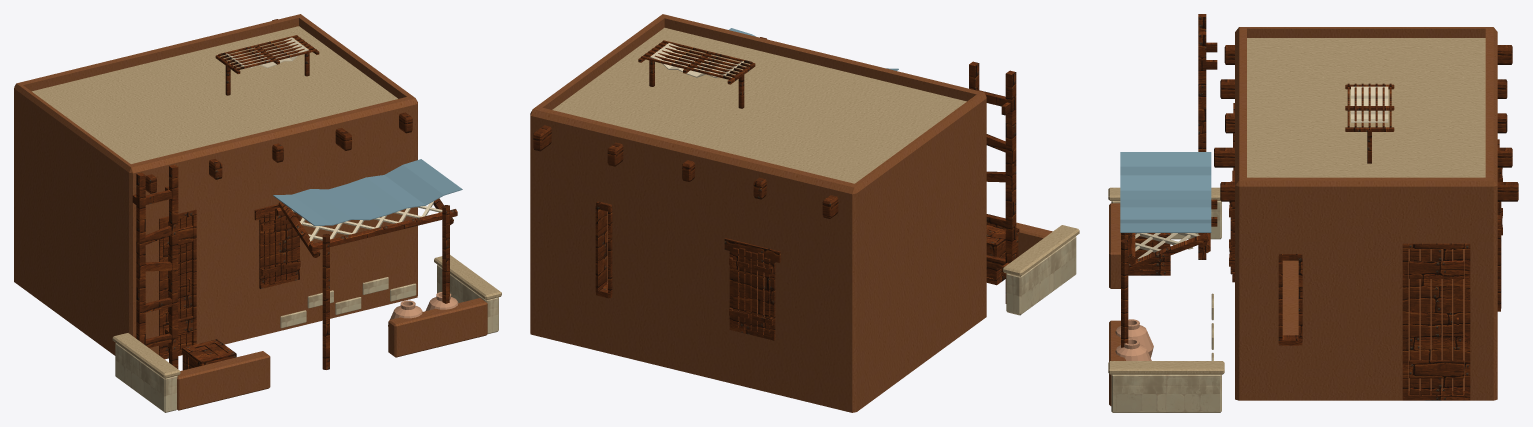
The model's file is house-mudbrick.glb.
3 renders of one model, left to right at view 1: azimuth 30°, elevation 25°; view 2: azimuth 150°, elevation 25°; view 3: azimuth 270°, elevation 25°, orthographic. The views are drawn at different scales.
Parts seen in each view (by area): view 1: house-mudbrick|3dtextures-sun-dried-mud-plaster, house-mudbrick|3dtextures-limestone-coping, house-mudbrick|3dtextures-aged-wood, house-mudbrick|faded-indigo-cloth, house-mudbrick|3dtextures-dressed-limestone, house-mudbrick|woven-linen, house-mudbrick|fired-clay; view 2: house-mudbrick|3dtextures-sun-dried-mud-plaster, house-mudbrick|3dtextures-limestone-coping, house-mudbrick|3dtextures-aged-wood, house-mudbrick|3dtextures-dressed-limestone, house-mudbrick|woven-linen; view 3: house-mudbrick|3dtextures-sun-dried-mud-plaster, house-mudbrick|3dtextures-limestone-coping, house-mudbrick|3dtextures-aged-wood, house-mudbrick|faded-indigo-cloth, house-mudbrick|3dtextures-dressed-limestone, house-mudbrick|woven-linen, house-mudbrick|fired-clay.
Part boxes in pixels (x1=…): house-mudbrick|3dtextures-sun-dried-mud-plaster: x1=14, y1=14, x2=487, y2=410; house-mudbrick|3dtextures-limestone-coping: x1=32, y1=26, x2=501, y2=378; house-mudbrick|3dtextures-aged-wood: x1=132, y1=19, x2=457, y2=370; house-mudbrick|faded-indigo-cloth: x1=273, y1=159, x2=462, y2=225; house-mudbrick|3dtextures-dressed-limestone: x1=115, y1=264, x2=498, y2=412; house-mudbrick|woven-linen: x1=226, y1=37, x2=442, y2=241; house-mudbrick|fired-clay: x1=388, y1=292, x2=458, y2=326; house-mudbrick|3dtextures-sun-dried-mud-plaster: x1=530, y1=14, x2=1052, y2=412; house-mudbrick|3dtextures-limestone-coping: x1=552, y1=27, x2=1079, y2=276; house-mudbrick|3dtextures-aged-wood: x1=533, y1=37, x2=1019, y2=340; house-mudbrick|3dtextures-dressed-limestone: x1=1006, y1=236, x2=1076, y2=315; house-mudbrick|woven-linen: x1=650, y1=43, x2=743, y2=77; house-mudbrick|3dtextures-sun-dried-mud-plaster: x1=1109, y1=27, x2=1497, y2=405; house-mudbrick|3dtextures-limestone-coping: x1=1108, y1=38, x2=1485, y2=374; house-mudbrick|3dtextures-aged-wood: x1=1121, y1=14, x2=1518, y2=400; house-mudbrick|faded-indigo-cloth: x1=1120, y1=152, x2=1211, y2=232; house-mudbrick|3dtextures-dressed-limestone: x1=1111, y1=201, x2=1221, y2=412; house-mudbrick|woven-linen: x1=1135, y1=86, x2=1388, y2=258; house-mudbrick|fired-clay: x1=1115, y1=319, x2=1153, y2=360.
Bounding box in the file's own units: 6.17 × 3.89 × 5.86.
Materials: 7 (4 with a texture image).
